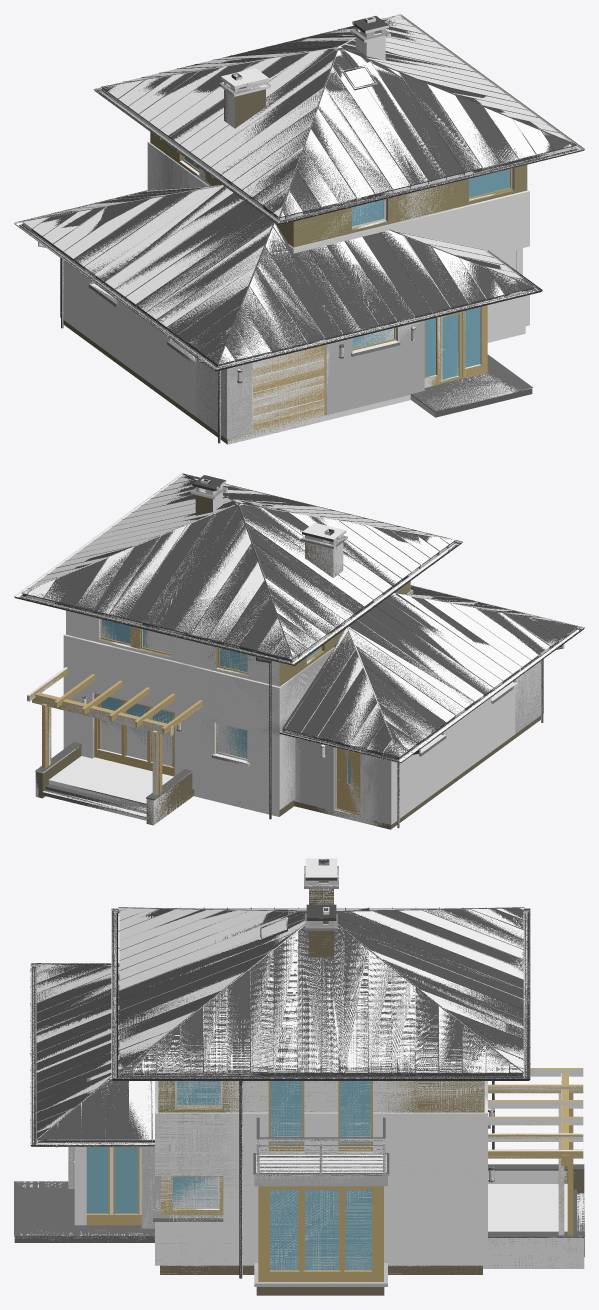
Rendered from Bambo_House.glb.
3 views of the same model, one above another, from view 1: azimuth 30°, elevation 25°; view 2: azimuth 150°, elevation 25°; view 3: azimuth 270°, elevation 25° (orthographic). The views are drawn at different scales.
Parts seen in each view (by area): view 1: Bambo_House, roof, body_house, gutters, garage, chimneys, windows, fundametnts, stairs, ridge; view 2: Bambo_House, roof, body_house, stairs, gutters, windows, boards, door, chimneys, ridge, fundametnts, wall_barrels; view 3: Bambo_House, roof, body_house, windows, gutters, boards, stairs, wall_barrels, barrels, chimneys, ridge.
Boxes of the visible parts, x1=… form: Bambo_House: x1=14, y1=14, x2=584, y2=444; roof: x1=22, y1=15, x2=574, y2=364; body_house: x1=60, y1=77, x2=529, y2=437; gutters: x1=14, y1=14, x2=584, y2=443; garage: x1=252, y1=345, x2=325, y2=432; chimneys: x1=221, y1=17, x2=390, y2=128; windows: x1=94, y1=175, x2=522, y2=387; fundametnts: x1=227, y1=326, x2=525, y2=444; stairs: x1=417, y1=373, x2=532, y2=410; ridge: x1=22, y1=14, x2=533, y2=346; Bambo_House: x1=14, y1=473, x2=584, y2=829; roof: x1=21, y1=475, x2=576, y2=757; body_house: x1=63, y1=583, x2=543, y2=824; stairs: x1=43, y1=756, x2=173, y2=820; gutters: x1=14, y1=473, x2=584, y2=827; windows: x1=101, y1=619, x2=512, y2=813; boards: x1=27, y1=667, x2=201, y2=795; door: x1=97, y1=708, x2=173, y2=767; chimneys: x1=190, y1=478, x2=347, y2=577; ridge: x1=21, y1=495, x2=560, y2=756; fundametnts: x1=194, y1=789, x2=388, y2=826; wall_barrels: x1=35, y1=746, x2=192, y2=825; Bambo_House: x1=14, y1=859, x2=584, y2=1295; roof: x1=36, y1=908, x2=523, y2=1144; body_house: x1=68, y1=1081, x2=487, y2=1285; windows: x1=74, y1=1081, x2=380, y2=1275; gutters: x1=30, y1=908, x2=530, y2=1278; boards: x1=488, y1=1069, x2=583, y2=1235; stairs: x1=14, y1=1181, x2=584, y2=1257; wall_barrels: x1=483, y1=1170, x2=584, y2=1268; barrels: x1=253, y1=1138, x2=389, y2=1175; chimneys: x1=304, y1=858, x2=338, y2=952; ridge: x1=37, y1=907, x2=524, y2=1139.
Bounding box in the file's own units: 13.64 × 9 × 14.54.
